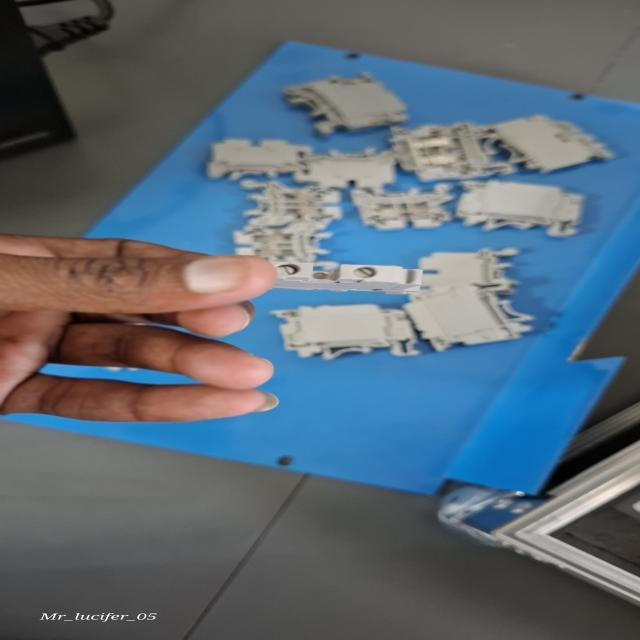Inverted: (257, 253, 437, 294)
